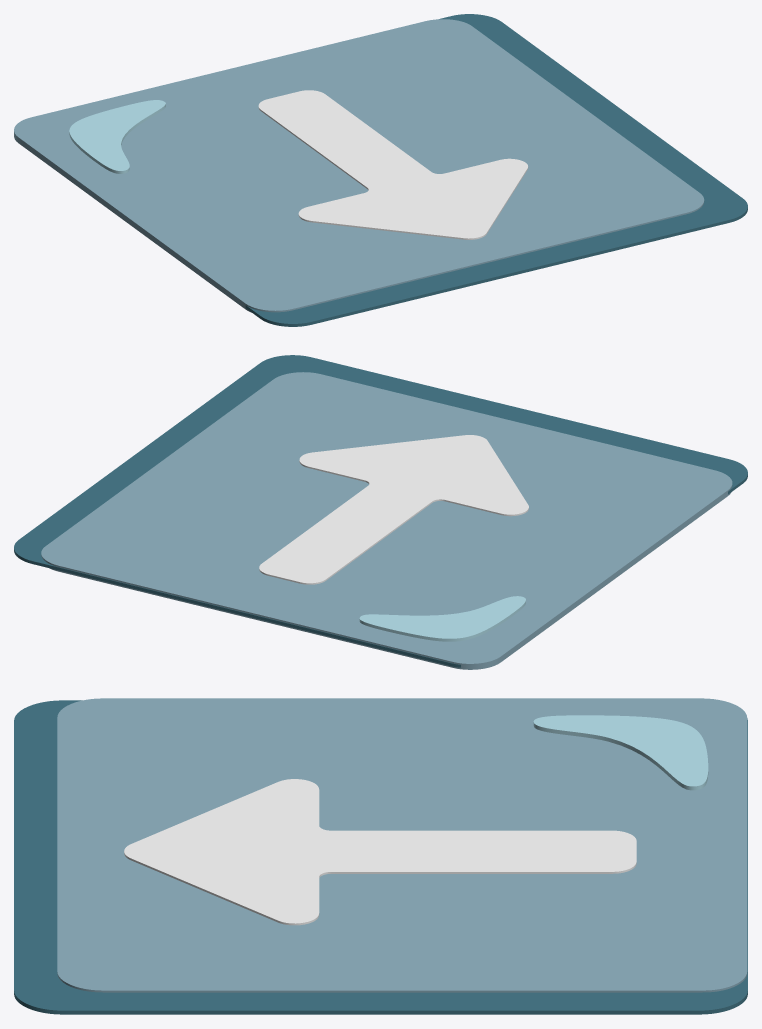
The model's file is emoji_u2b07.glb.
The picture shows the model from 3 angles, top to bottom: view 1: azimuth 30°, elevation 25°; view 2: azimuth 150°, elevation 25°; view 3: azimuth 270°, elevation 25°; orthographic projection. The views are drawn at different scales.
Parts seen in each view (by area): view 1: emoji_u2b07; view 2: emoji_u2b07; view 3: emoji_u2b07.
Boxes of the visible parts, x1,y1,x2,y2 form: emoji_u2b07: [14, 14, 747, 326]; emoji_u2b07: [14, 355, 747, 669]; emoji_u2b07: [14, 698, 747, 1014].
Size of the model in its own units: 0.0339 by 0.0008 by 0.0339.
